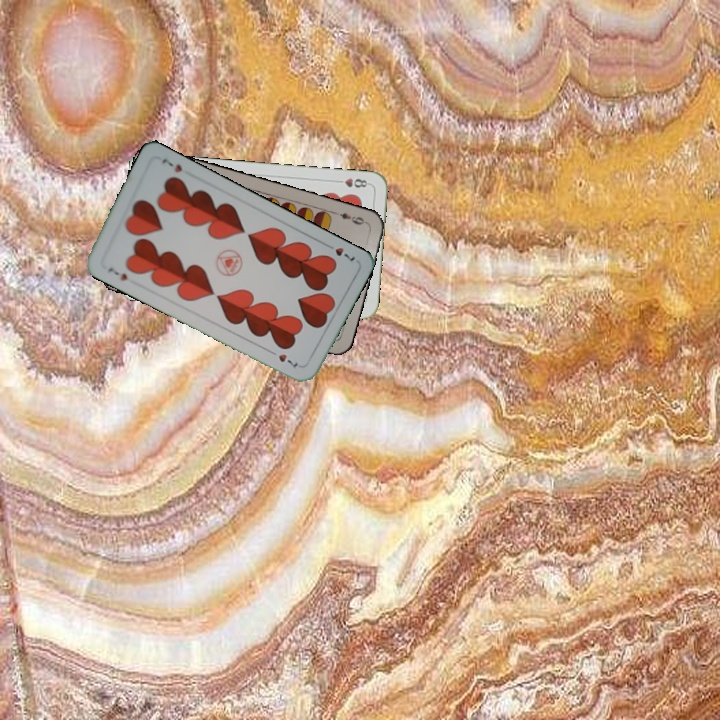E9: (330, 208, 370, 227)
H7: (321, 240, 358, 264), (104, 264, 130, 283)
H8: (332, 174, 372, 190)
